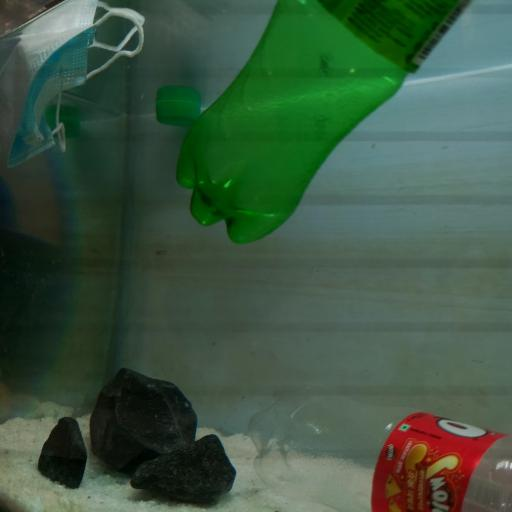bottle_cap: (154, 98, 201, 122)
mask: (0, 0, 143, 164)
plastic_bottle: (177, 0, 471, 246), (246, 381, 512, 511)
